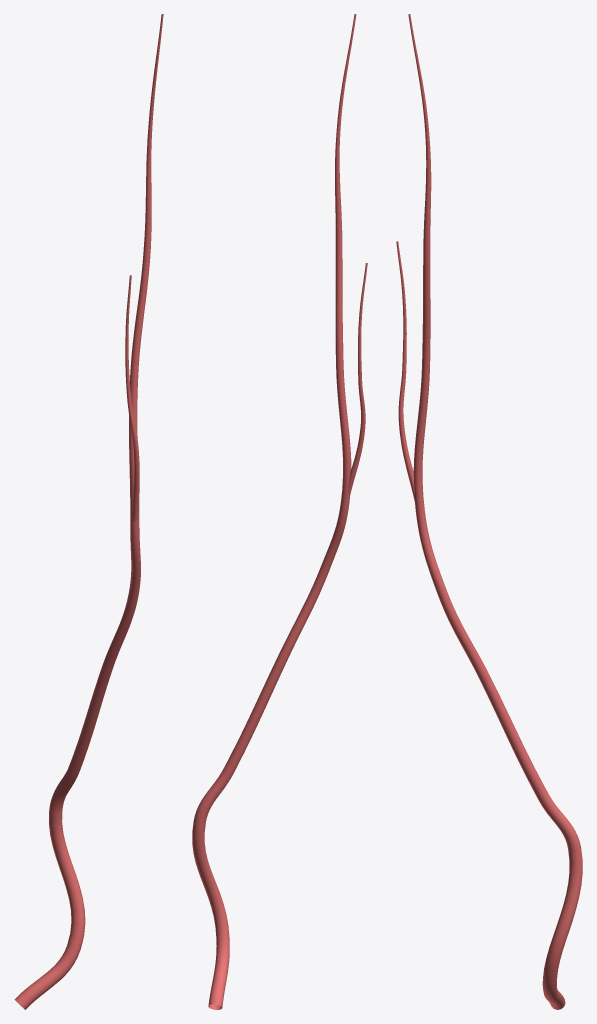
Rendered from Superficial_epigastric_artery.r_BezierCurve.222.glb.
The picture shows the model from 3 angles, left to right: view 1: azimuth 90°, elevation 25°; view 2: azimuth 150°, elevation 25°; view 3: azimuth 330°, elevation 25°; orthographic projection. The views are drawn at different scales.
Parts seen in each view (by area): view 1: Superficial_epigastric_artery.r_BezierCurve.222; view 2: Superficial_epigastric_artery.r_BezierCurve.222; view 3: Superficial_epigastric_artery.r_BezierCurve.222.
Part boxes in pixels (bbox=[...]): Superficial_epigastric_artery.r_BezierCurve.222: bbox=[14, 14, 163, 1009]; Superficial_epigastric_artery.r_BezierCurve.222: bbox=[192, 14, 367, 1009]; Superficial_epigastric_artery.r_BezierCurve.222: bbox=[396, 14, 582, 1009].
Bounding box in the file's own units: 0.034 × 0.2242 × 0.0293.
